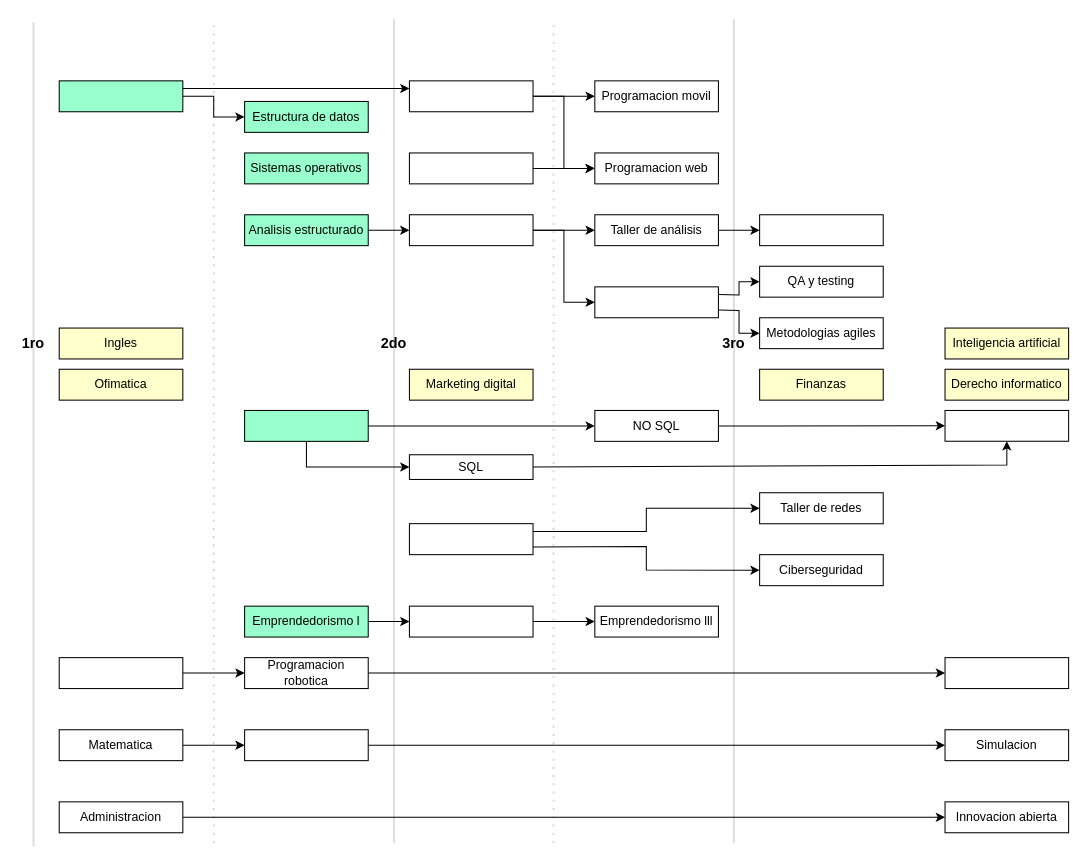
This 1087x864 diagram has some shape labels left out. The box of each missing label's shape, as (x1, y1, x2, y2) in pixels:
Analisis OO: (408, 214, 533, 246)
Arquitectura de software: (408, 152, 533, 184)
Base de datos: (244, 409, 368, 441)
Big data y BI: (944, 409, 1069, 441)
e- Digital: (58, 657, 183, 689)
Emprendedorismo ll: (408, 605, 533, 637)
Estadistica: (244, 729, 368, 761)
Ingeniería de software: (594, 286, 718, 318)
Introduccion a la programacion: (58, 80, 183, 112)
POO: (408, 80, 533, 112)
Redes e internet: (408, 523, 533, 555)
Taller de desarrollo: (759, 214, 883, 246)
Taller iot: (944, 657, 1069, 689)
